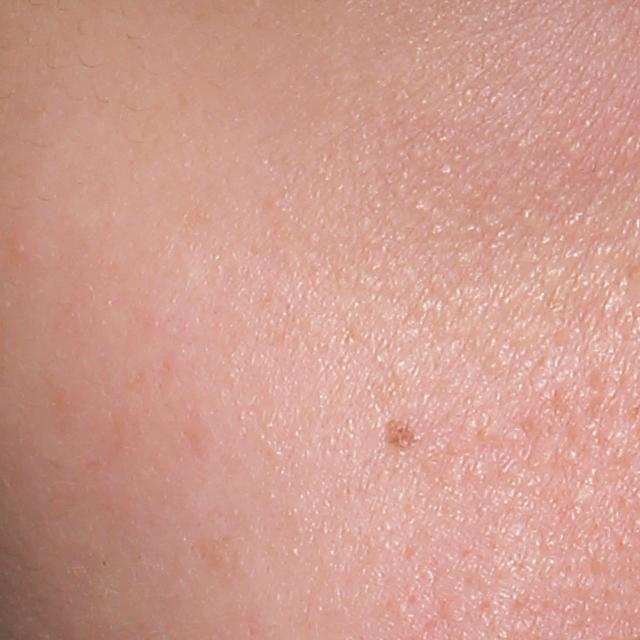comedo: (12, 242, 27, 255)
melasma: (379, 417, 420, 453)
